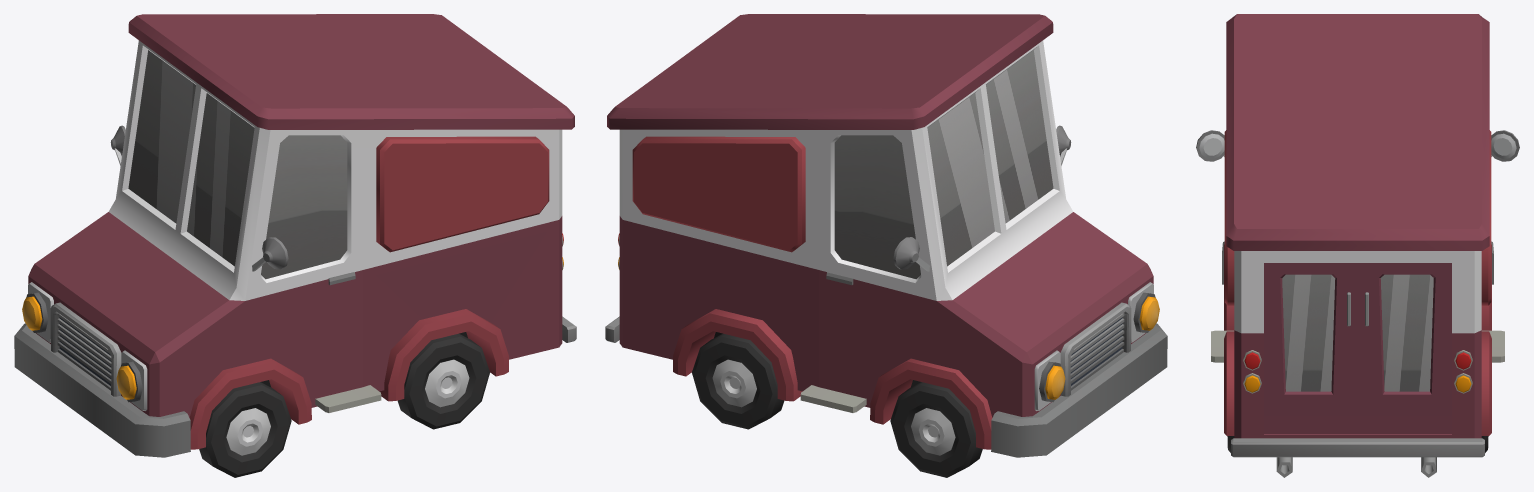
Rendered from Car_15_M.gltf.
The picture shows the model from 3 angles, left to right: view 1: azimuth 30°, elevation 25°; view 2: azimuth 150°, elevation 25°; view 3: azimuth 270°, elevation 25°; orthographic projection. The views are drawn at different scales.
Visible parts, largest first — view 1: Car_15_M, RL, FL; view 2: Car_15_M, RR, FR; view 3: Car_15_M.
Part boxes in pixels (<box>): Car_15_M: <box>14,14,576,457</box>; RL: <box>397,333,489,429</box>; FL: <box>199,382,291,477</box>; Car_15_M: <box>605,14,1167,457</box>; RR: <box>692,333,784,429</box>; FR: <box>890,382,982,477</box>; Car_15_M: <box>1196,14,1519,477</box>.
Bounding box in the file's own units: 2.75 × 2.13 × 1.8.
4 materials, 4 textured.
